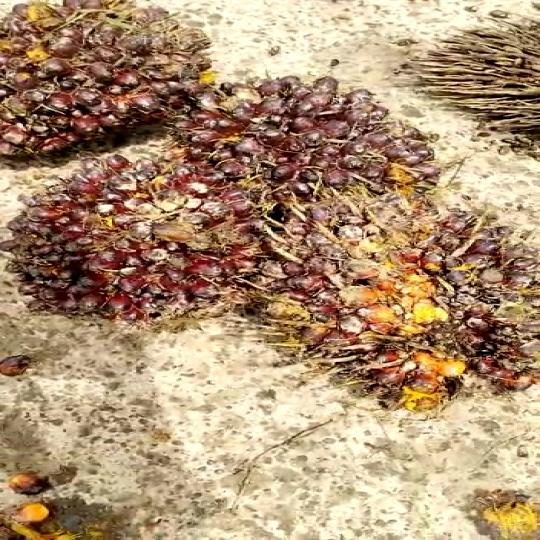kurang masak: (246, 200, 540, 421), (11, 148, 286, 320), (152, 75, 455, 212), (0, 0, 226, 164)
